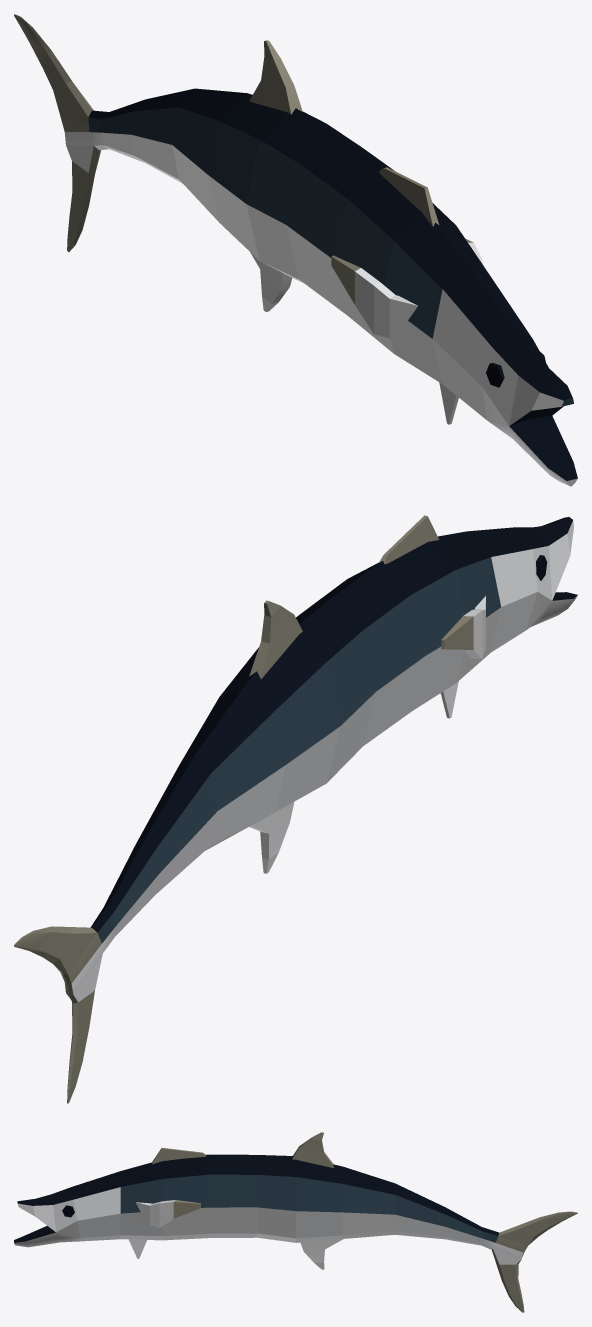
Rendered from Mesh_Kingfish.obj.
The picture shows the model from 3 angles, top to bottom: view 1: azimuth 30°, elevation 25°; view 2: azimuth 150°, elevation 25°; view 3: azimuth 270°, elevation 25°; orthographic projection. The views are drawn at different scales.
Visible parts, largest first — view 1: Geo_Kingfish; view 2: Geo_Kingfish; view 3: Geo_Kingfish.
Boxes of the visible parts, <box> form: Geo_Kingfish: <box>14,14,577,486</box>; Geo_Kingfish: <box>14,515,577,1103</box>; Geo_Kingfish: <box>14,1132,577,1312</box>.
Size of the model in its own units: 17.26 by 49.51 by 140.
Materials: 1 (1 with a texture image).
